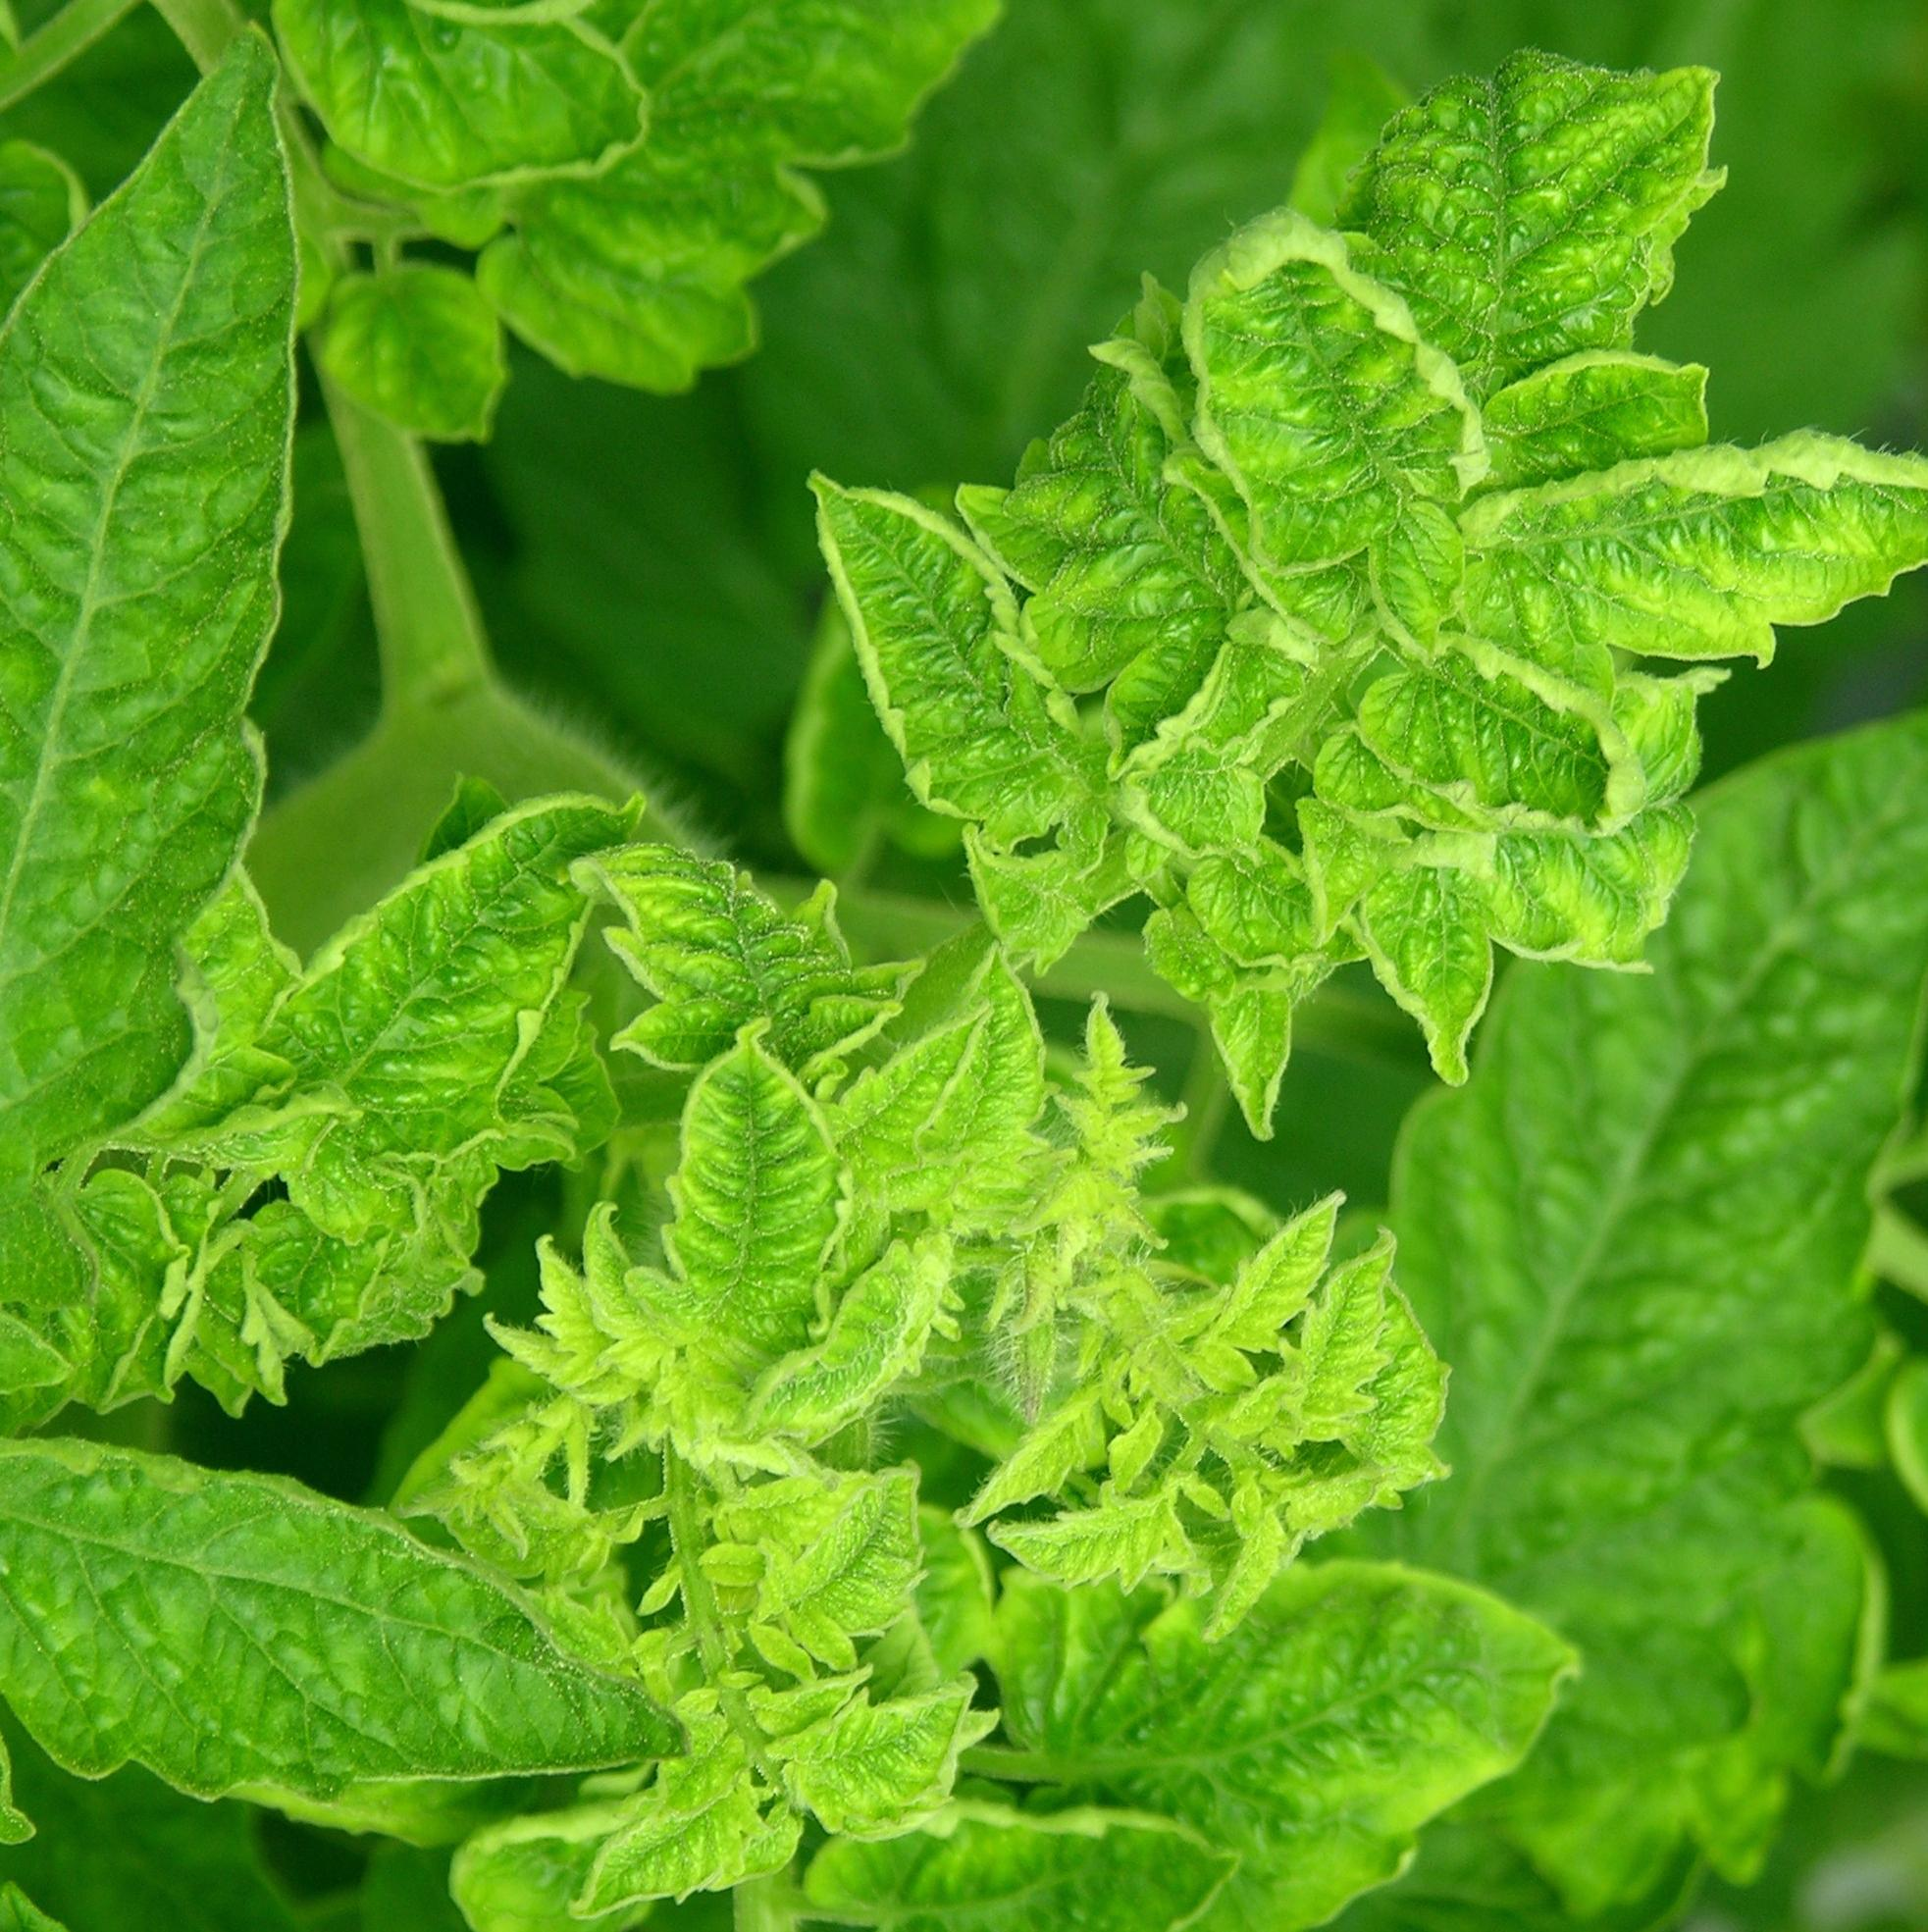Tomato leaf yellow virus: (0, 65, 404, 1355), (0, 1438, 807, 1865), (226, 754, 676, 1229), (902, 1542, 1600, 1847), (1132, 157, 1506, 600), (787, 434, 1121, 902), (1390, 60, 1789, 438), (1444, 413, 1928, 705), (1273, 625, 1707, 862), (623, 1037, 877, 1363), (842, 1008, 1116, 1263), (1169, 1197, 1372, 1362), (1277, 1277, 1416, 1441)
